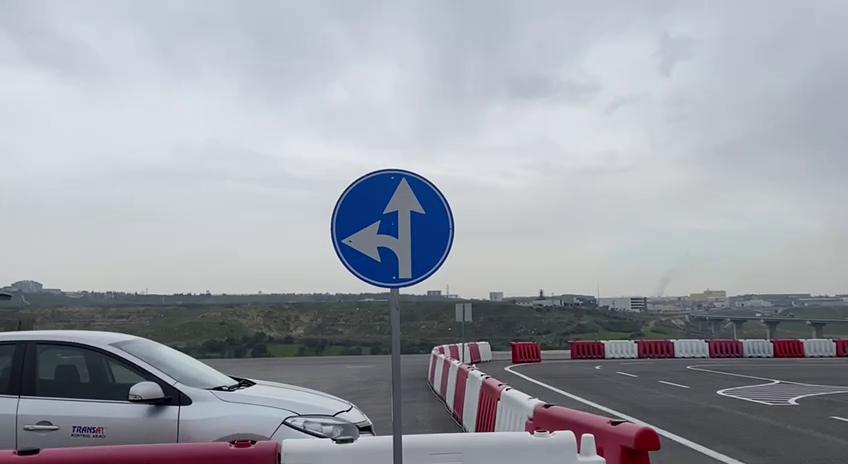forwardAndLeft: (327, 165, 456, 292)
